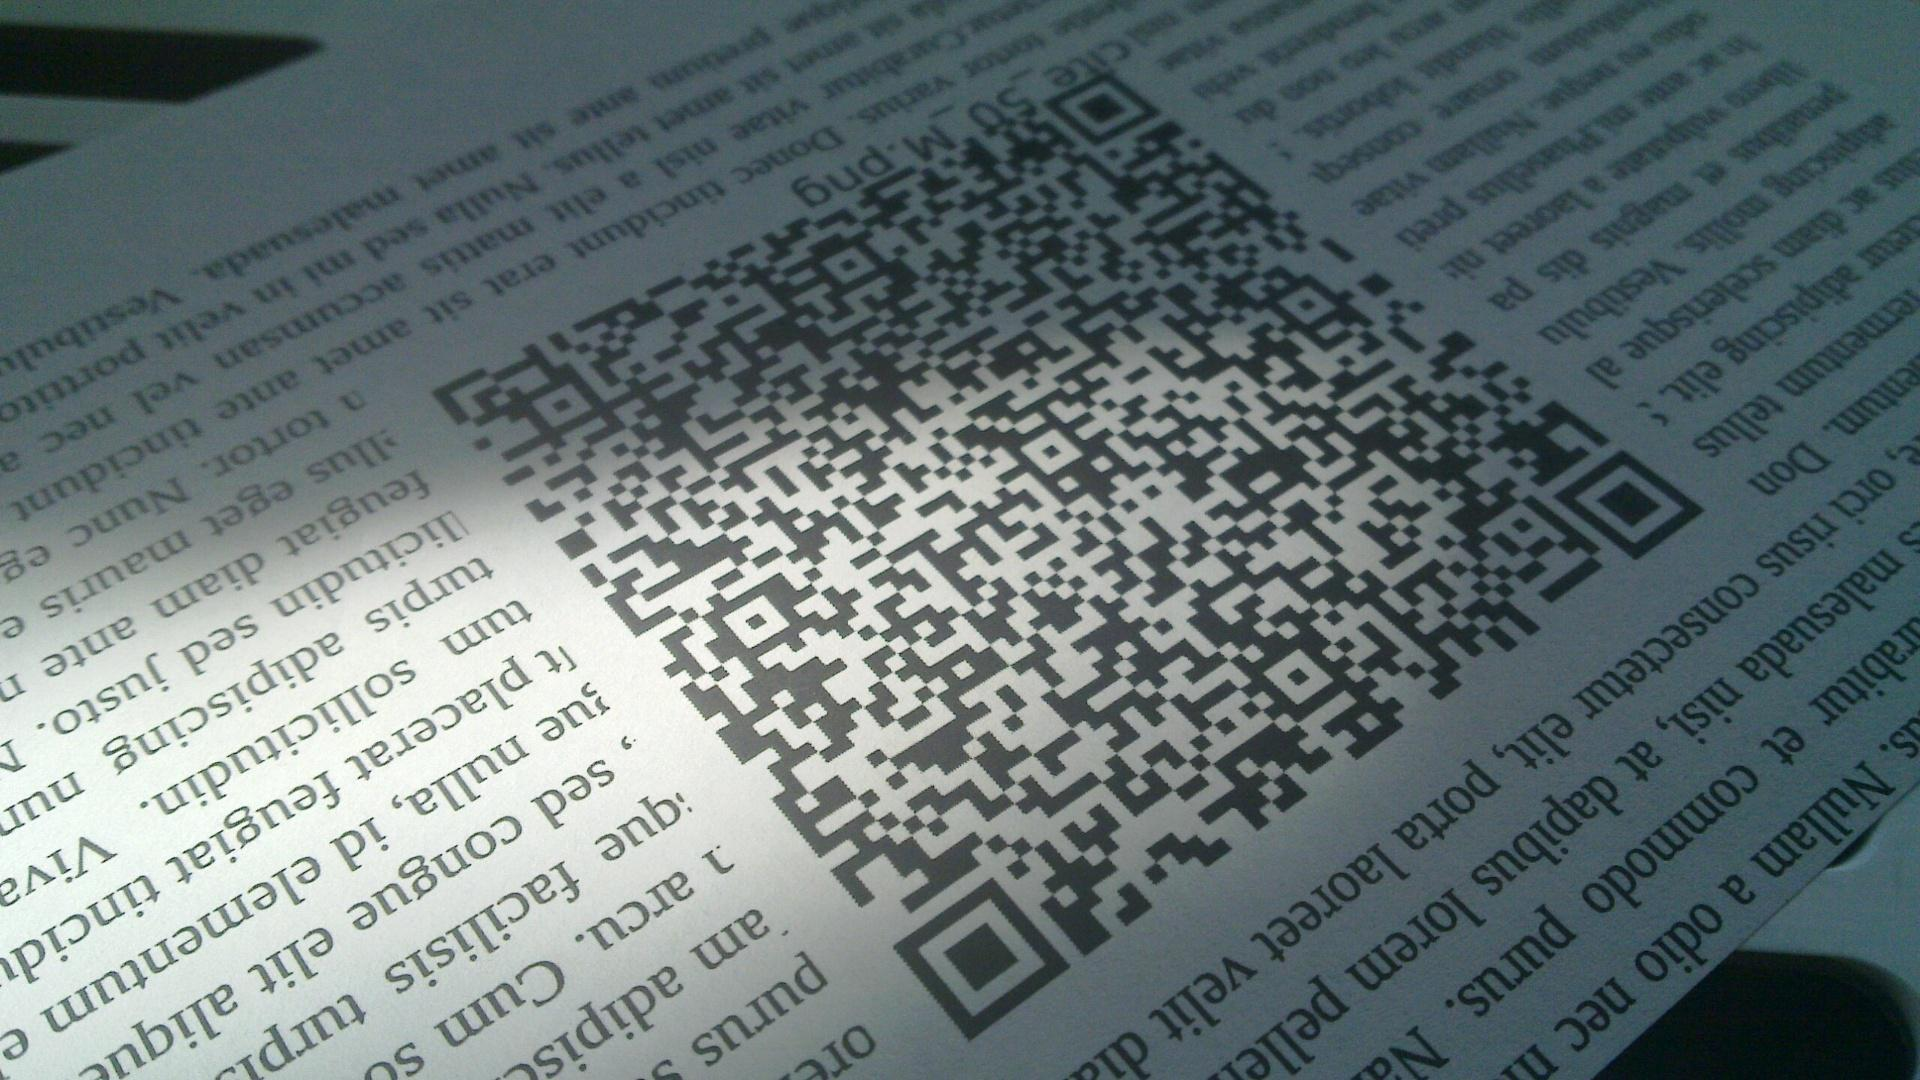qr_code: (429, 70, 1704, 1040)
